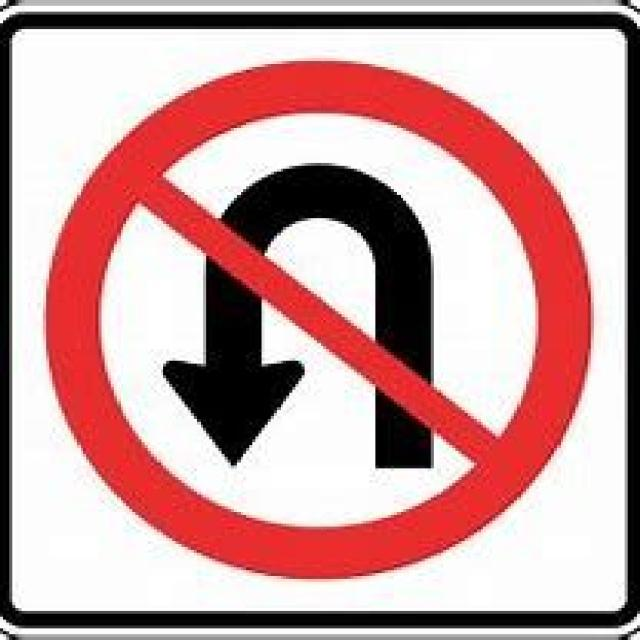u turn prohibited: (44, 57, 593, 582)
